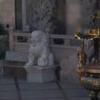Statue: (18, 23, 59, 86)
